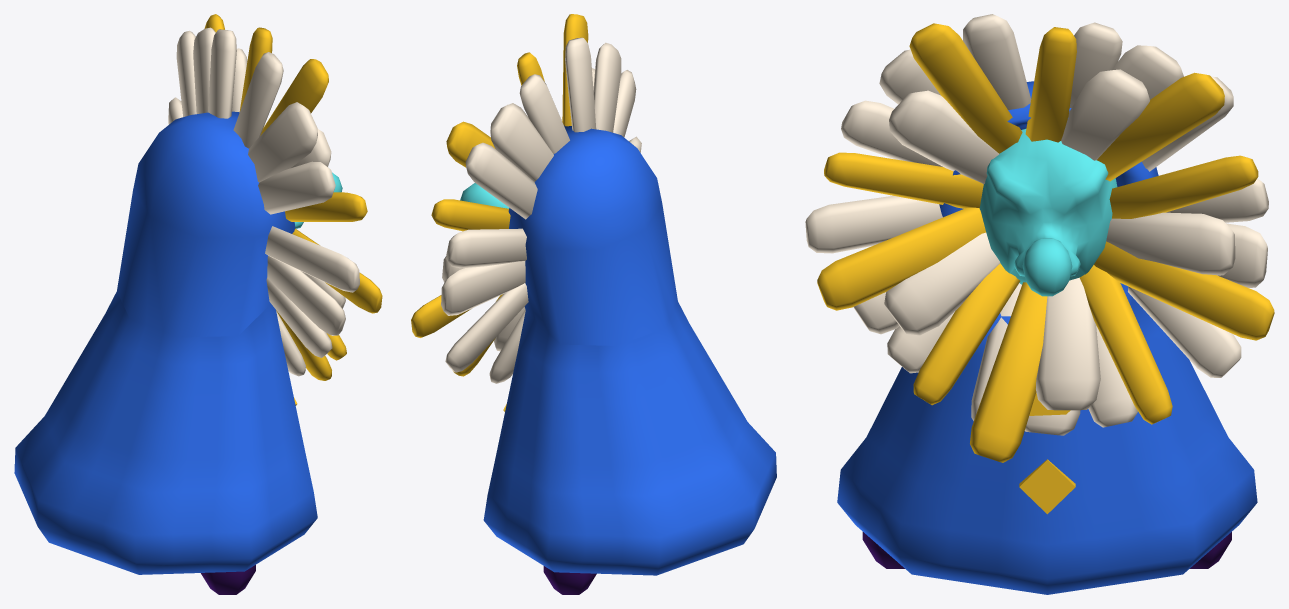
The model's file is Walpurgis_Character.fbx.
3 renders of one model, left to right at view 1: azimuth 30°, elevation 25°; view 2: azimuth 150°, elevation 25°; view 3: azimuth 270°, elevation 25°, orthographic. The views are drawn at different scales.
Visible parts, largest first — view 1: Coat, Head_Feathers.033, Head_Feathers.038, Head_Feathers.028, Head_Feathers.032, Head_Feathers.039, Head_Feathers.029, Head_Feathers.027, Head_Feathers.013, Head_Feathers.023, Head_Feathers.034, Head_Feathers.040 (+7 smaller); view 2: Coat, Head_Feathers.040, Head_Feathers.035, Head_Feathers.034, Head_Feathers.030, Head_Feathers.041, Head_Feathers.039, Head_Feathers.029, Head_Feathers.033, Head_Feathers.025, Head_Feathers.014, Head_Feathers.015 (+6 smaller); view 3: Coat, Head_Ritopology, Head_Feathers.016, Head_Feathers.012, Head_Feathers.015, Head_Feathers.021, Head_Feathers.013, Head_Feathers.020, Head_Feathers.026, Head_Feathers.014, Head_Feathers.017, Head_Feathers.018 (+21 smaller).
Part boxes in pixels (box(x1,y1,x2,y2)): Coat: box(14, 111, 317, 574); Head_Feathers.033: box(248, 102, 317, 182); Head_Feathers.038: box(265, 226, 359, 292); Head_Feathers.028: box(258, 161, 335, 214); Head_Feathers.032: box(267, 256, 345, 335); Head_Feathers.039: box(233, 52, 283, 148); Head_Feathers.029: box(208, 29, 236, 118); Head_Feathers.027: box(266, 277, 332, 357); Head_Feathers.013: box(260, 59, 328, 135); Head_Feathers.023: box(285, 192, 367, 221); Head_Feathers.034: box(193, 27, 215, 113); Head_Feathers.040: box(176, 30, 196, 116); Coat: box(483, 125, 776, 575); Head_Feathers.040: box(465, 142, 537, 219); Head_Feathers.035: box(441, 261, 525, 315); Head_Feathers.034: box(490, 103, 553, 181); Head_Feathers.030: box(446, 228, 526, 268); Head_Feathers.041: box(445, 283, 528, 372); Head_Feathers.039: box(565, 37, 596, 132); Head_Feathers.029: box(519, 74, 569, 153); Head_Feathers.033: box(593, 42, 621, 132); Head_Feathers.025: box(431, 199, 510, 231); Head_Feathers.014: box(446, 121, 495, 167); Head_Feathers.015: box(411, 295, 470, 337); Coat: box(837, 81, 1257, 594); Head_Ritopology: box(979, 129, 1117, 296); Head_Feathers.016: box(970, 282, 1047, 462); Head_Feathers.012: box(817, 207, 986, 310); Head_Feathers.015: box(1094, 241, 1274, 340); Head_Feathers.021: box(1036, 277, 1100, 410); Head_Feathers.013: box(909, 23, 1022, 153); Head_Feathers.020: box(1106, 212, 1235, 275); Head_Feathers.026: box(1079, 265, 1172, 424); Head_Feathers.014: box(1097, 72, 1224, 181); Head_Feathers.017: box(884, 232, 1000, 335); Head_Feathers.018: box(889, 90, 998, 183).
Size of the model in its own units: 117 by 184 by 130.
